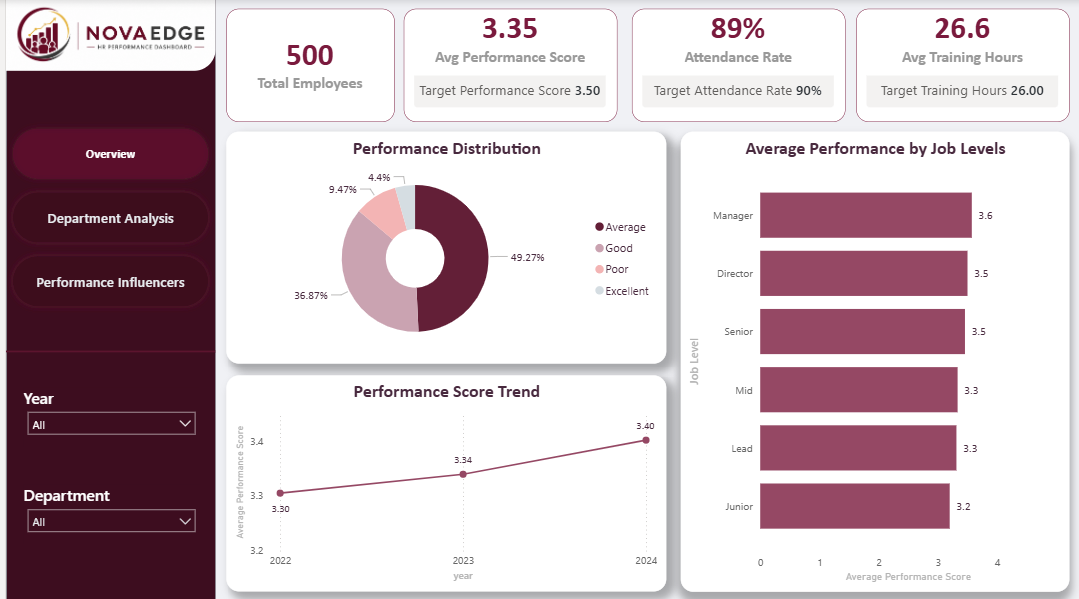

The dashboard page shown, as its layout file describes it:
{"tool":"powerbi","page":{"name":"Overview","canvas":[1280,720],"ordinal":0},"visuals":[{"type":"shape","title":"Menue BG","box":[0,0,250,720],"z":0},{"type":"cardVisual","title":"sdfsfsfs","fields":{"Data":["dim_employee.Total Employees"]},"box":[261.5,11.6,200.4,135],"z":8000},{"type":"cardVisual","fields":{"Data":["fact_performance.Average Performance Score"]},"box":[474.6,11.6,254.2,135],"z":9000},{"type":"cardVisual","fields":{"Data":["fact_performance.Average Training Hours"]},"box":[1013.5,11.6,254.2,135],"z":10000},{"type":"cardVisual","title":"dfdfgdfgd","fields":{"Data":["fact_performance.Attendance Rate %"]},"box":[744.5,11.6,254.2,135],"z":11000},{"type":"donutChart","title":"Performance Distribution","fields":{"Category":["fact_performance.Performance Category"],"Y":["CountNonNull(fact_performance.review_id)"]},"box":[261.5,157.1,524.1,276.3],"z":12000},{"type":"lineChart","title":"Performance Score Trend","fields":{"Y":["fact_performance.Average Performance Score"],"Category":["dim_date.year","dim_date.quarter"]},"box":[261.5,448.2,524.1,257.3],"z":13000},{"type":"slicer","title":"Year","fields":{"Values":["dim_date.year"]},"box":[21.1,463,209.9,70.7],"z":14000},{"type":"slicer","title":"Department","fields":{"Values":["dim_department.department_name"]},"box":[21.1,579,209.9,70.7],"z":15000},{"type":"clusteredBarChart","title":"Average Performance by Job Levels","fields":{"Category":["dim_employee.job_level","dim_department.department_name","dim_employee.employee_id"],"Y":["fact_performance.Average Performance Score"]},"box":[804.6,157.1,463,548.4],"z":16000},{"type":"pageNavigator","box":[1.1,146.6,249.9,228.8],"z":17000},{"type":"shape","box":[1,375.4,249.3,87.1],"z":18000},{"type":"image","box":[0,0,249.9,85.4],"z":19000}]}

Visuals, with their boxes in screenshot pixels (x1, y1, x2, y2), scaled from the page's 1280x720 canvas onto the 1079x599 screenshot:
"Menue BG" shape: [0, 0, 211, 598]
"sdfsfsfs" cardVisual: [220, 10, 389, 122]
cardVisual - fact_performance.Average Performance Score: [400, 10, 614, 122]
cardVisual - fact_performance.Average Training Hours: [854, 10, 1069, 122]
"dfdfgdfgd" cardVisual: [628, 10, 842, 122]
"Performance Distribution" donutChart: [220, 131, 662, 361]
"Performance Score Trend" lineChart: [220, 373, 662, 587]
"Year" slicer: [18, 385, 195, 444]
"Department" slicer: [18, 482, 195, 541]
"Average Performance by Job Levels" clusteredBarChart: [678, 131, 1069, 587]
pageNavigator: [1, 122, 212, 312]
shape: [1, 312, 211, 385]
image: [0, 0, 211, 71]
